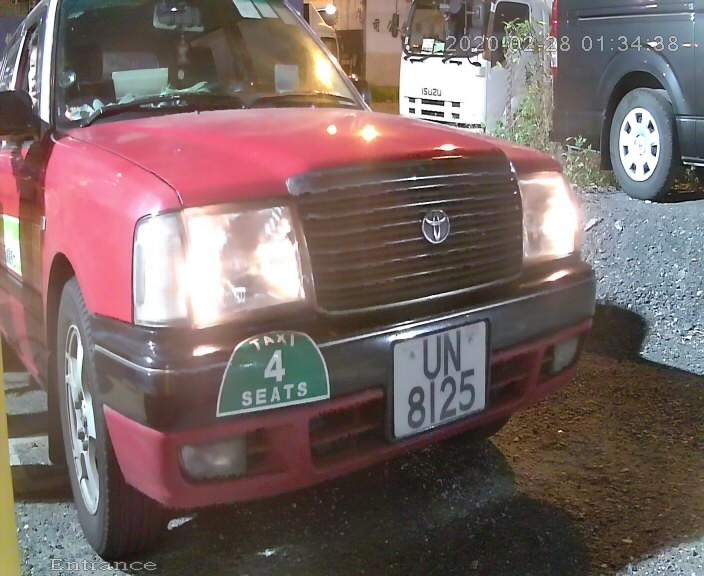Car: (1, 1, 593, 557)
License Plate: (378, 306, 491, 453)
